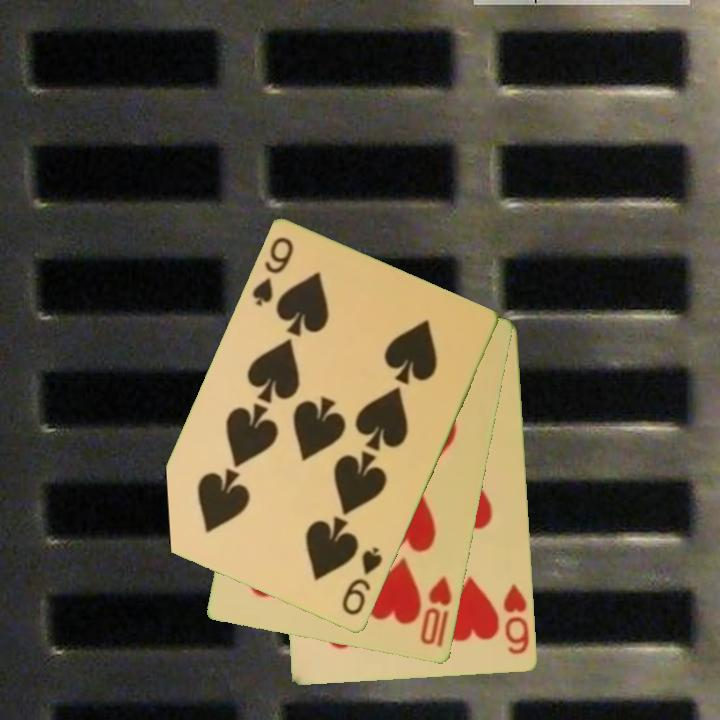10h: (417, 573, 455, 649)
6h: (500, 581, 533, 658)
9s: (249, 233, 297, 310), (338, 543, 386, 619)
